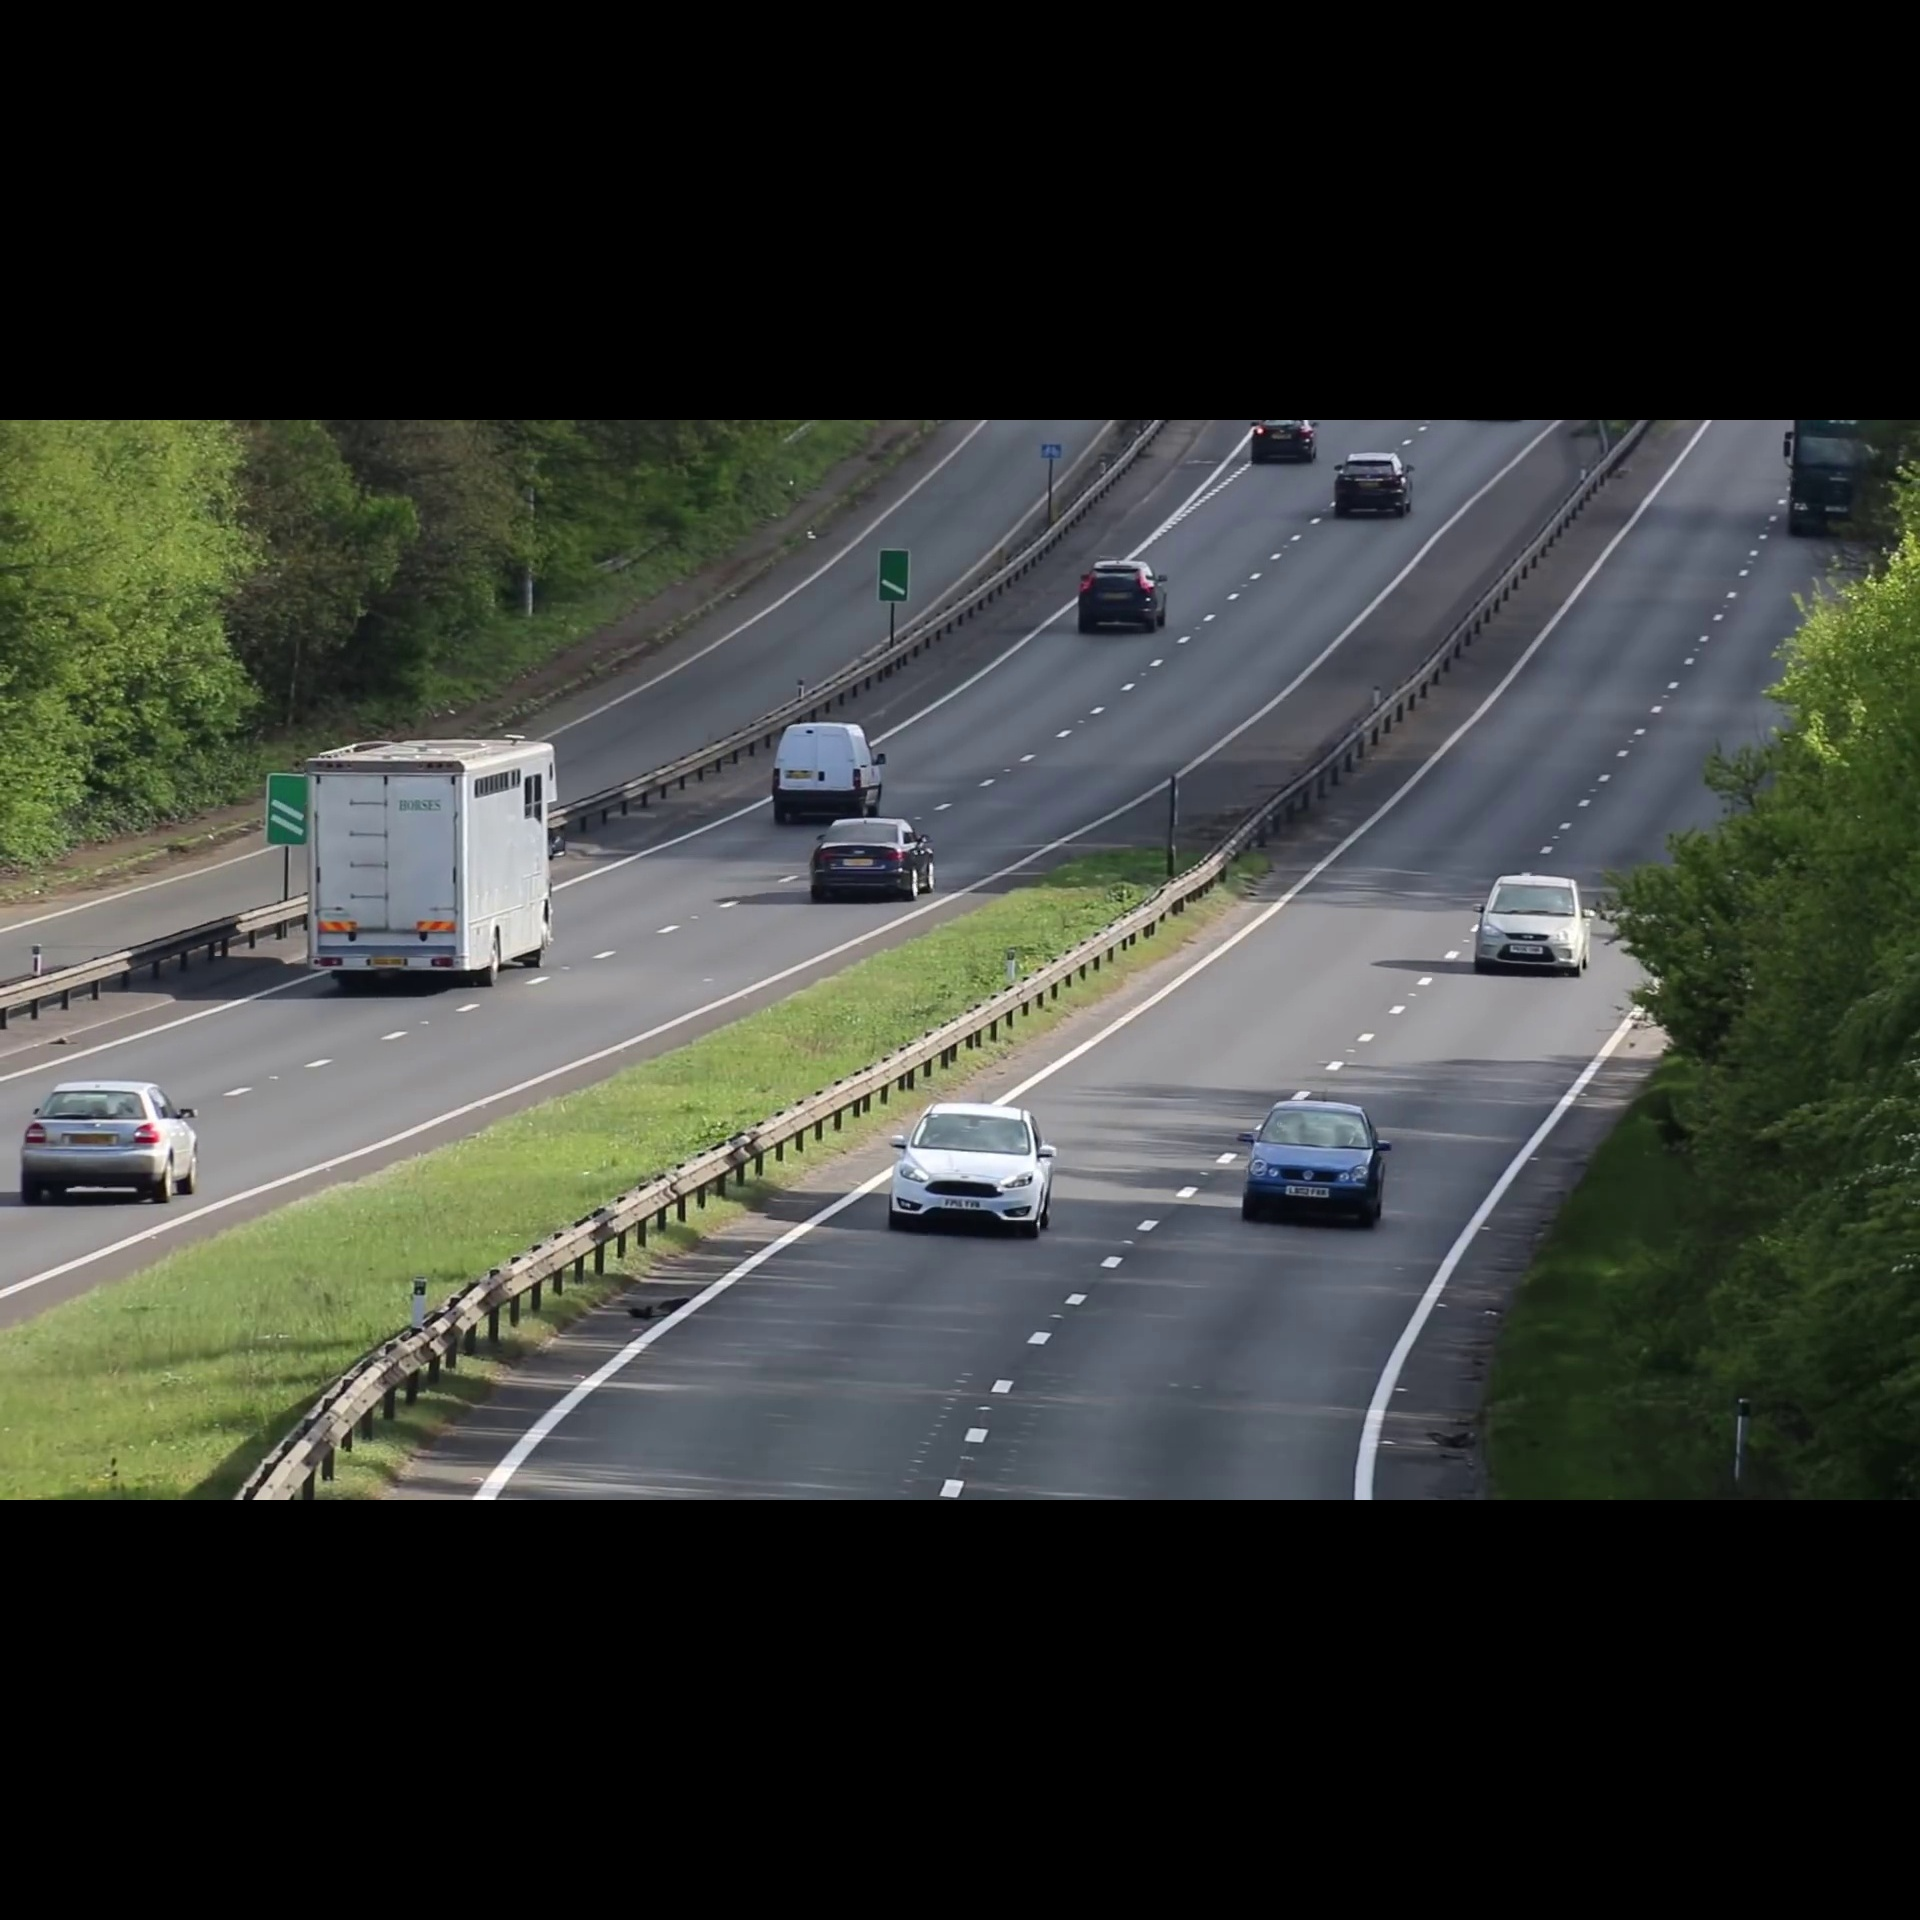vehicle: (294, 733, 577, 995), (884, 1085, 1071, 1254), (5, 1071, 207, 1220), (1233, 1087, 1394, 1238), (1463, 863, 1604, 983), (802, 816, 944, 911), (763, 714, 893, 816), (1069, 554, 1175, 642), (1333, 448, 1415, 526), (1245, 418, 1320, 468)
